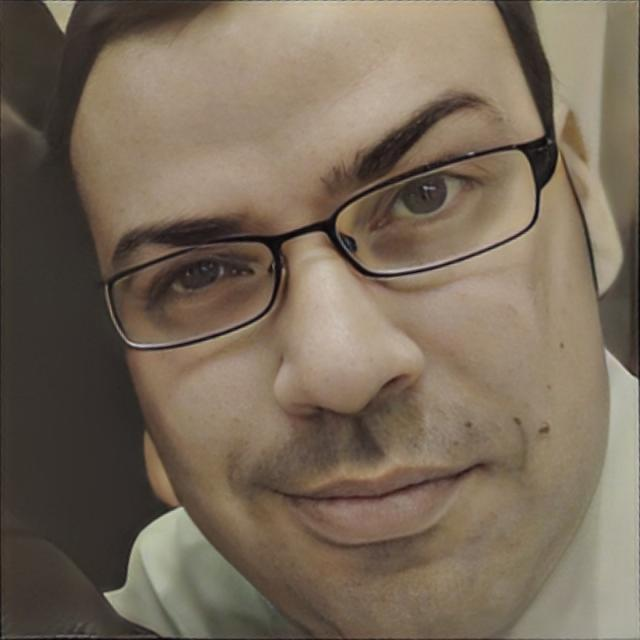content: (68, 0, 612, 640)
